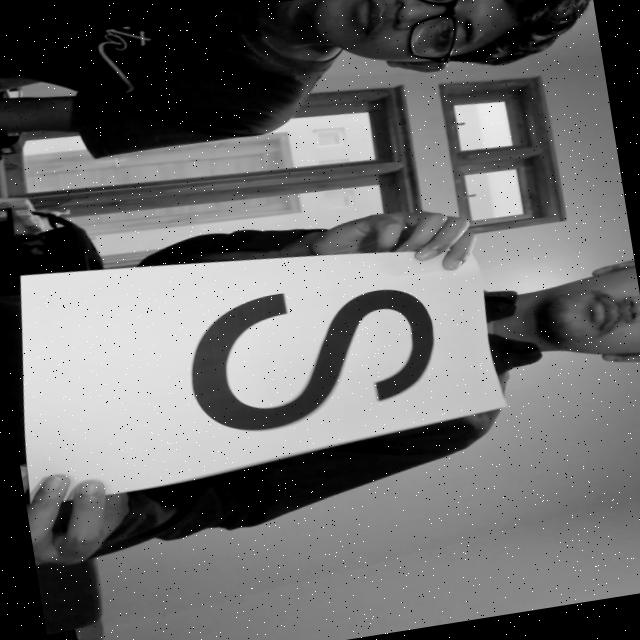s: (130, 260, 454, 458)
